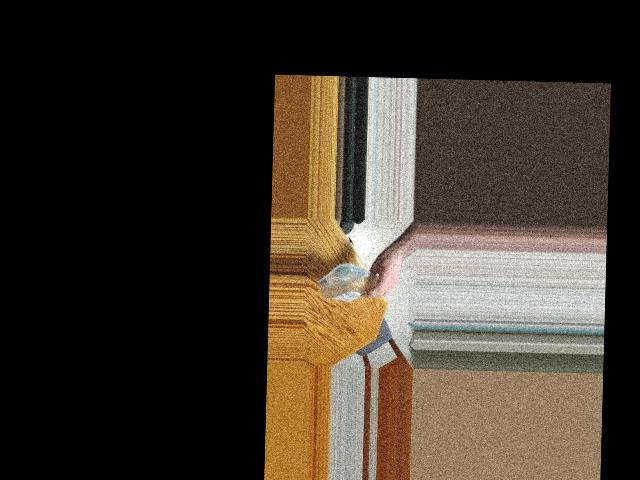cheese: (317, 265, 390, 304)
